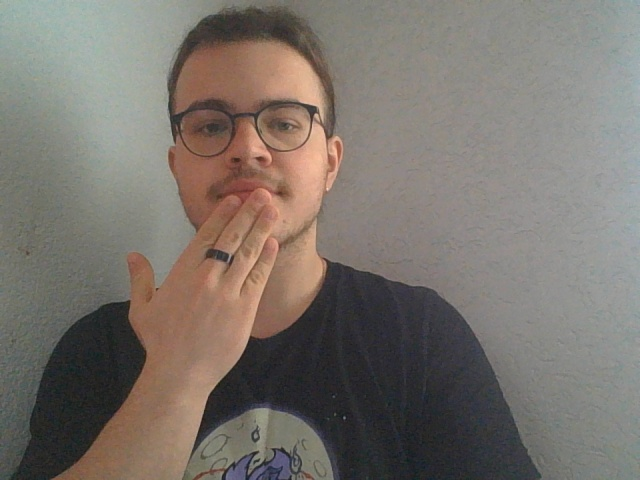ThankYou: (126, 187, 282, 480)
